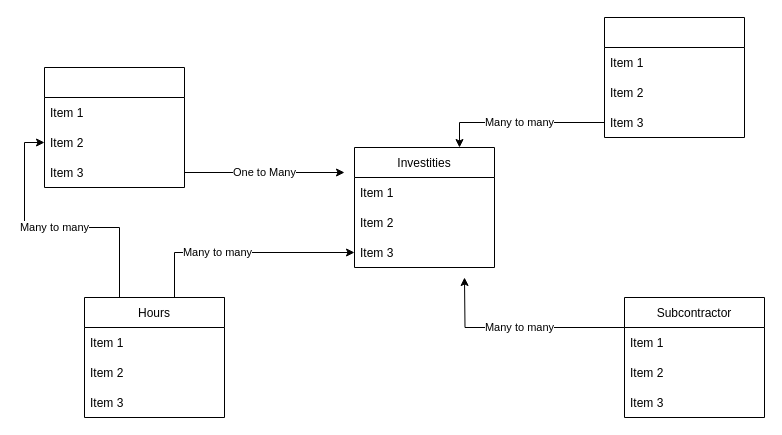
Some shapes in this 782 by 435 pixel diagram are drawn without their labels. The shapes that lost their labels are listed below. From the top down, each one's box as (x1, y1, x2, y2) in pixels, then its label:
(604, 16, 744, 138): Saler
(44, 66, 184, 188): User
